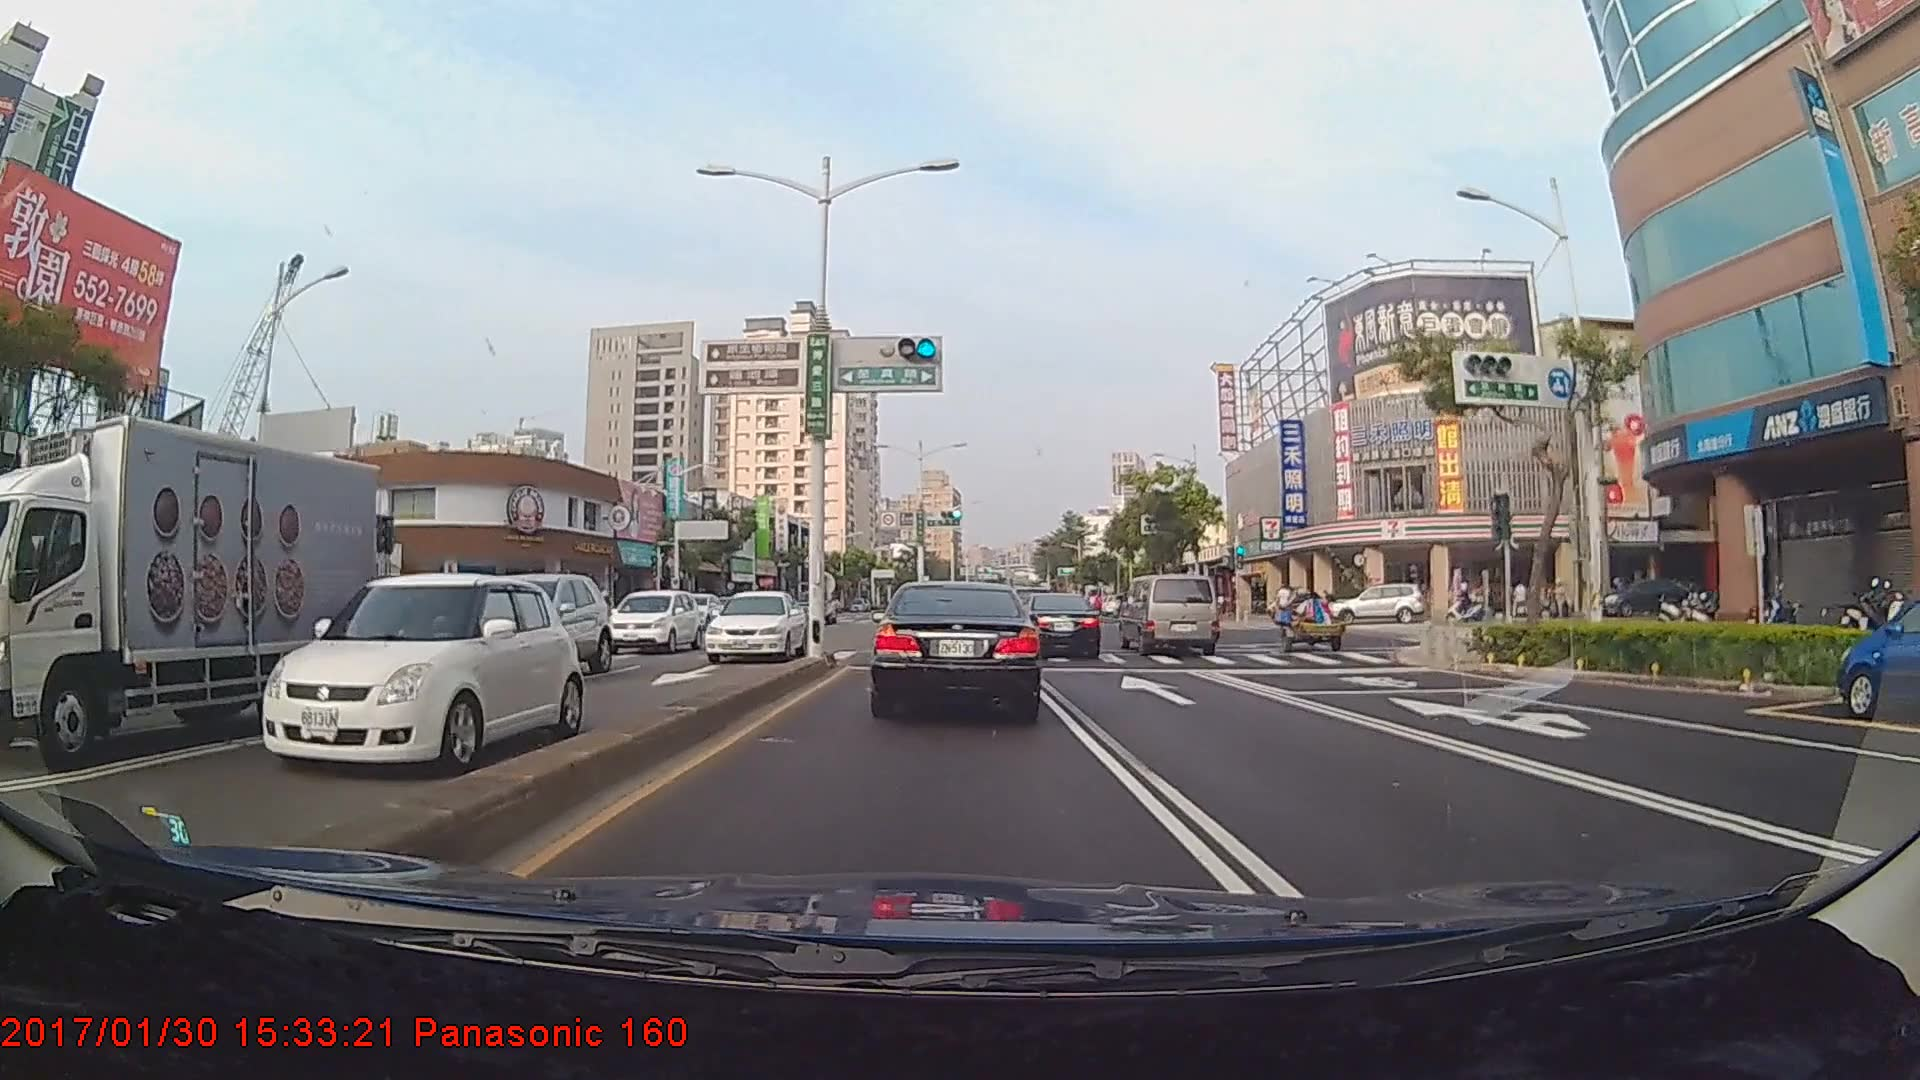vehicle: (0, 410, 377, 752), (225, 562, 556, 789), (872, 575, 1040, 720), (446, 564, 612, 674), (1832, 584, 1920, 717), (1124, 572, 1221, 659), (698, 583, 808, 659), (595, 583, 698, 654), (1023, 593, 1102, 659), (1332, 582, 1429, 626)
